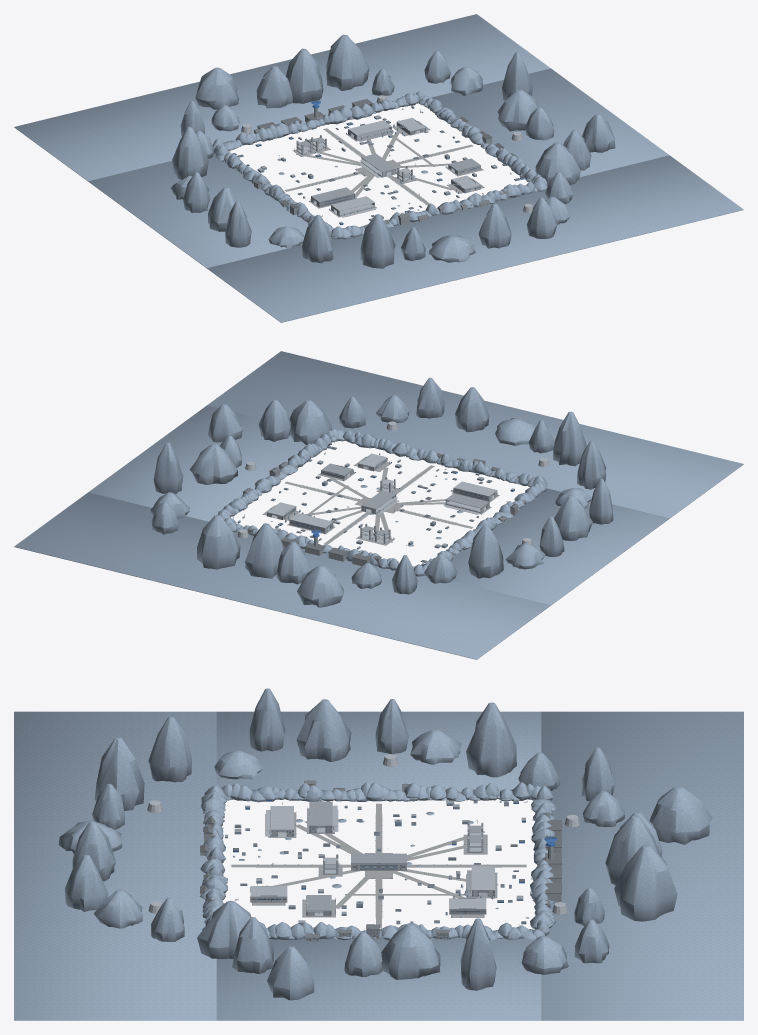
Rendered from setsugen-lod0.glb.
The picture shows the model from 3 angles, top to bottom: view 1: azimuth 30°, elevation 25°; view 2: azimuth 150°, elevation 25°; view 3: azimuth 270°, elevation 25°; orthographic projection. The views are drawn at different scales.
Visible parts, largest first — view 1: HB_setsugen_LOD0_terrain, HB_setsugen_LOD0_wall_alt, HB_setsugen_LOD0_wall, HB_setsugen_LOD0_road, HB_setsugen_LOD0_trim, HB_setsugen_LOD0_obstacle; view 2: HB_setsugen_LOD0_terrain, HB_setsugen_LOD0_wall, HB_setsugen_LOD0_wall_alt, HB_setsugen_LOD0_road, HB_setsugen_LOD0_trim, HB_setsugen_LOD0_obstacle; view 3: HB_setsugen_LOD0_terrain, HB_setsugen_LOD0_wall_alt, HB_setsugen_LOD0_wall, HB_setsugen_LOD0_road, HB_setsugen_LOD0_trim, HB_setsugen_LOD0_obstacle, HB_setsugen_LOD0_natural.
Part boxes in pixels (x1,y1,x2,y2): HB_setsugen_LOD0_terrain: [14, 14, 743, 322]; HB_setsugen_LOD0_wall_alt: [235, 104, 508, 225]; HB_setsugen_LOD0_wall: [241, 95, 533, 217]; HB_setsugen_LOD0_road: [229, 109, 511, 216]; HB_setsugen_LOD0_trim: [229, 99, 523, 223]; HB_setsugen_LOD0_obstacle: [237, 106, 520, 220]; HB_setsugen_LOD0_terrain: [14, 351, 743, 659]; HB_setsugen_LOD0_wall: [237, 421, 549, 565]; HB_setsugen_LOD0_wall_alt: [238, 453, 525, 566]; HB_setsugen_LOD0_road: [242, 453, 507, 545]; HB_setsugen_LOD0_trim: [238, 437, 526, 564]; HB_setsugen_LOD0_obstacle: [237, 446, 492, 562]; HB_setsugen_LOD0_terrain: [14, 688, 743, 1020]; HB_setsugen_LOD0_wall_alt: [200, 781, 561, 941]; HB_setsugen_LOD0_wall: [147, 754, 579, 916]; HB_setsugen_LOD0_road: [231, 802, 531, 928]; HB_setsugen_LOD0_trim: [200, 780, 561, 940]; HB_setsugen_LOD0_obstacle: [224, 799, 533, 924]; HB_setsugen_LOD0_natural: [225, 792, 537, 925].
Size of the model in its own units: 756 by 75.51 by 756.
Materials: 10 (8 with a texture image).
